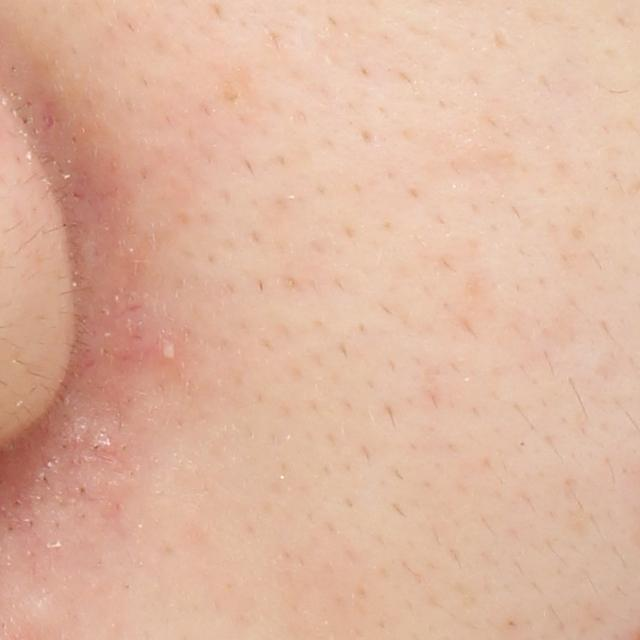pustule: (152, 337, 188, 363)
